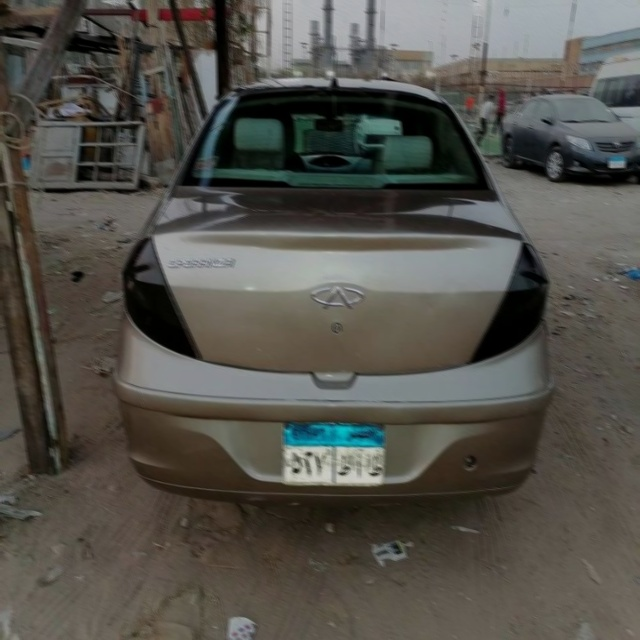License Plate: (281, 420, 385, 487)
